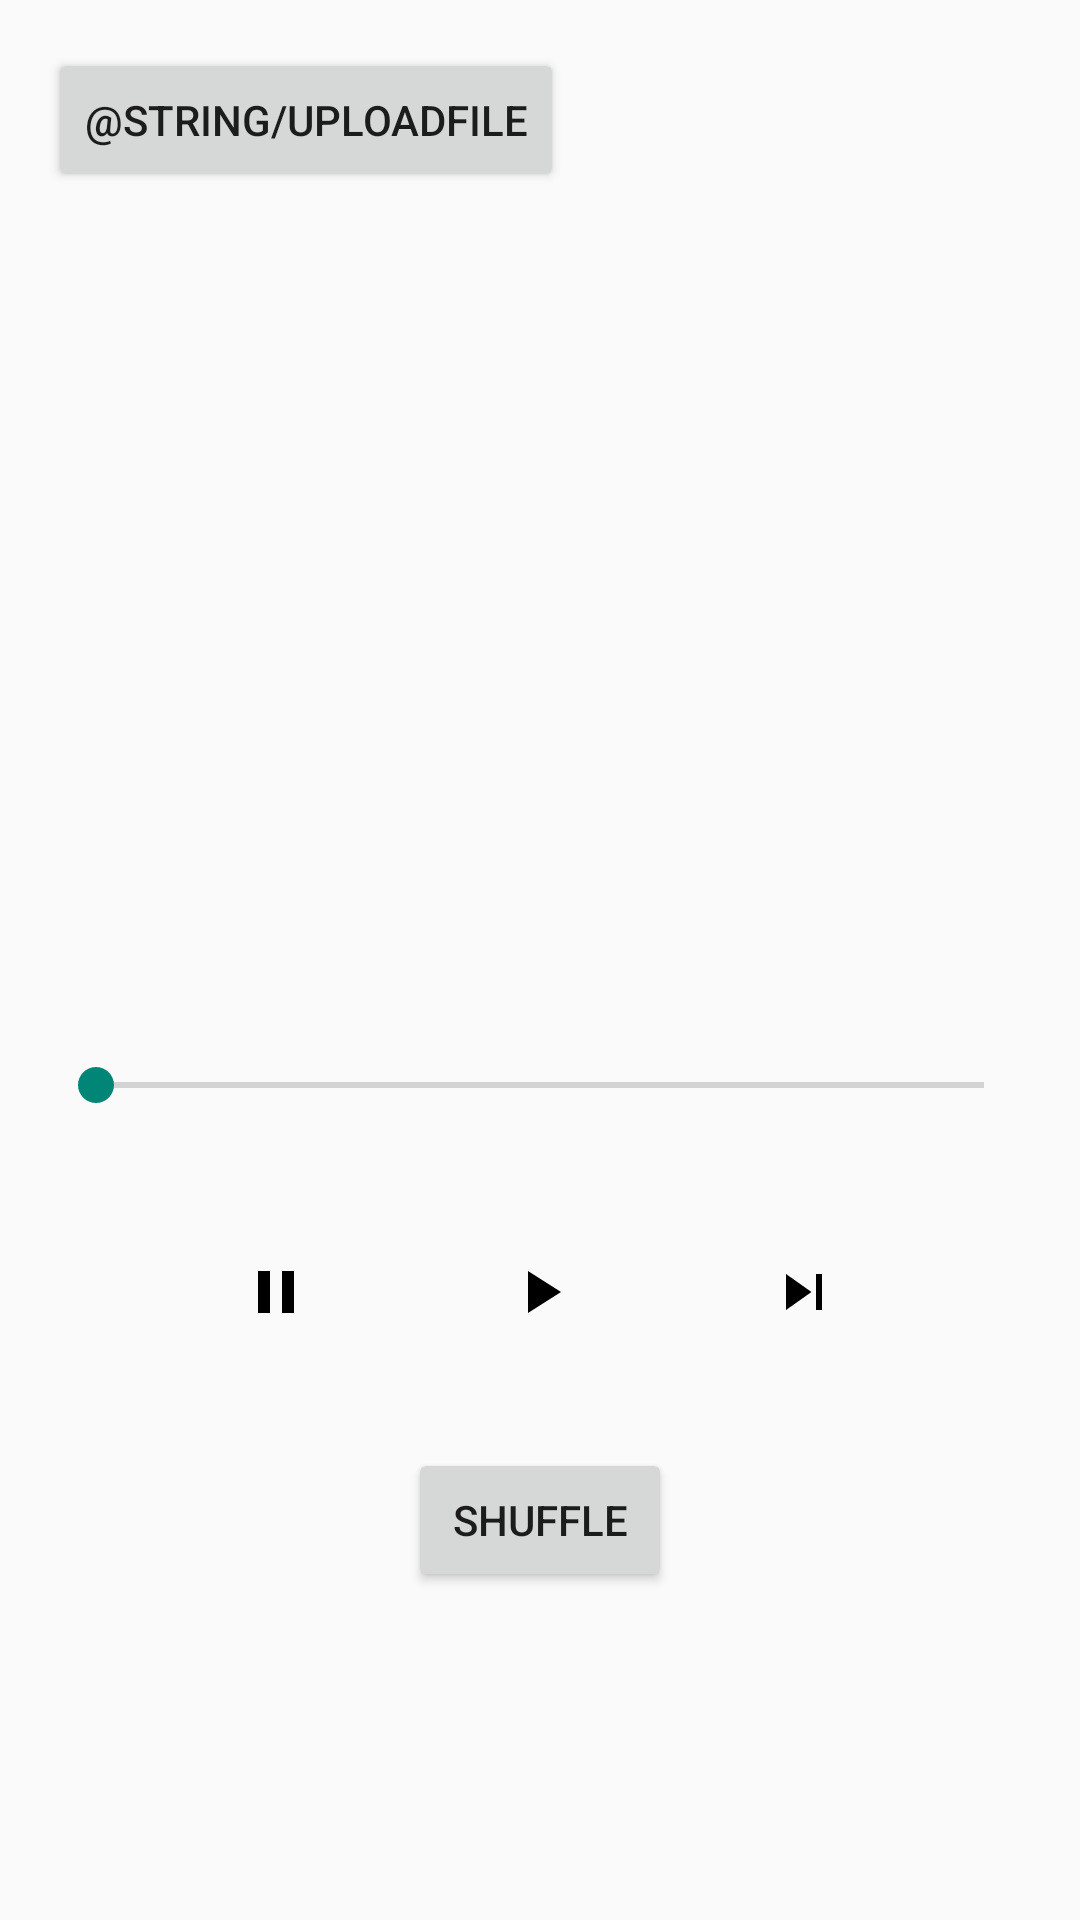

Point at icon controls on the screen. Image size 1080x1920, points as [x,y].
Next: [804,1292]
Play/Pause: [544,1292]
